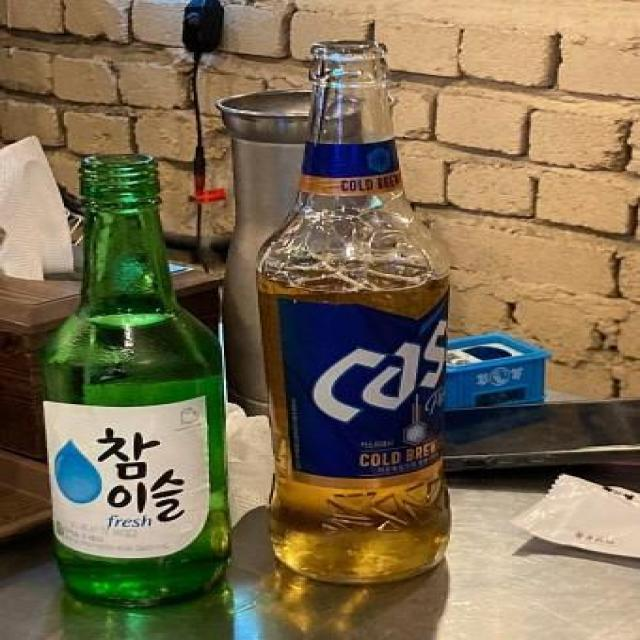beer-bottle: (258, 32, 478, 600)
soju-bottle: (34, 149, 246, 617)
